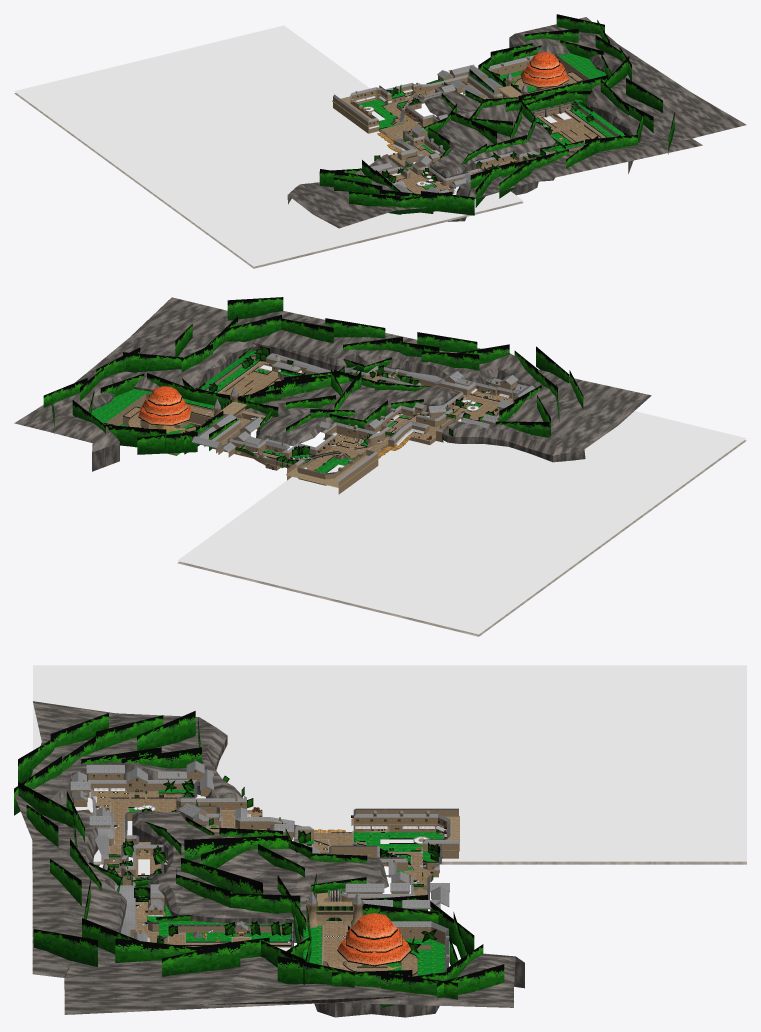
The picture shows the model from 3 angles, top to bottom: view 1: azimuth 30°, elevation 25°; view 2: azimuth 150°, elevation 25°; view 3: azimuth 270°, elevation 25°; orthographic projection. The views are drawn at different scales.
Visible parts, largest first — view 1: GUT_water, GUT_iwa, GUT_mori, GUT_bricks, GUT_tiles_bw, GUT_road, GUT_grass, GUT_sand, GUT_flowers, GUT_others01, GUT_others03, GUT_leaves_red; view 2: GUT_water, GUT_iwa, GUT_mori, GUT_bricks, GUT_tiles_bw, GUT_road, GUT_grass, GUT_sand, GUT_flowers, GUT_others01, GUT_others03, GUT_plaza; view 3: GUT_water, GUT_iwa, GUT_mori, GUT_tiles_bw, GUT_bricks, GUT_road, GUT_grass, GUT_flowers, GUT_others01, GUT_sand, GUT_plaza, GUT_others03 (+1 smaller).
Boxes of the visible parts, x1,y1,x2,y2 form: GUT_water: (14,25,571,266); GUT_iwa: (287,17,746,228); GUT_mori: (319,14,674,215); GUT_bricks: (332,55,617,193); GUT_tiles_bw: (333,55,549,193); GUT_road: (380,75,605,194); GUT_grass: (358,53,624,188); GUT_sand: (14,93,523,268); GUT_flowers: (379,55,603,178); GUT_others01: (364,55,606,193); GUT_others03: (357,71,606,193); GUT_leaves_red: (523,52,566,81); GUT_water: (177,365,746,634); GUT_iwa: (14,297,651,471); GUT_mori: (43,297,583,468); GUT_bricks: (106,354,521,494); GUT_tiles_bw: (191,353,535,481); GUT_road: (128,361,499,470); GUT_grass: (91,351,491,473); GUT_sand: (177,440,746,636); GUT_flowers: (138,360,496,468); GUT_others01: (106,357,512,473); GUT_others03: (123,359,512,472); GUT_plaza: (124,391,512,455); GUT_water: (33,665,746,950); GUT_iwa: (15,701,524,1017); GUT_mori: (14,711,504,1007); GUT_tiles_bw: (70,760,458,970); GUT_bricks: (72,770,459,976); GUT_road: (109,799,432,974); GUT_grass: (129,788,444,975); GUT_flowers: (136,784,428,966); GUT_others01: (92,791,433,971); GUT_sand: (93,861,746,864); GUT_plaza: (93,791,386,971); GUT_others03: (95,791,446,975).
Bounding box in the file's own units: 190237 × 19556 × 161007.
24 materials, 24 textured.
